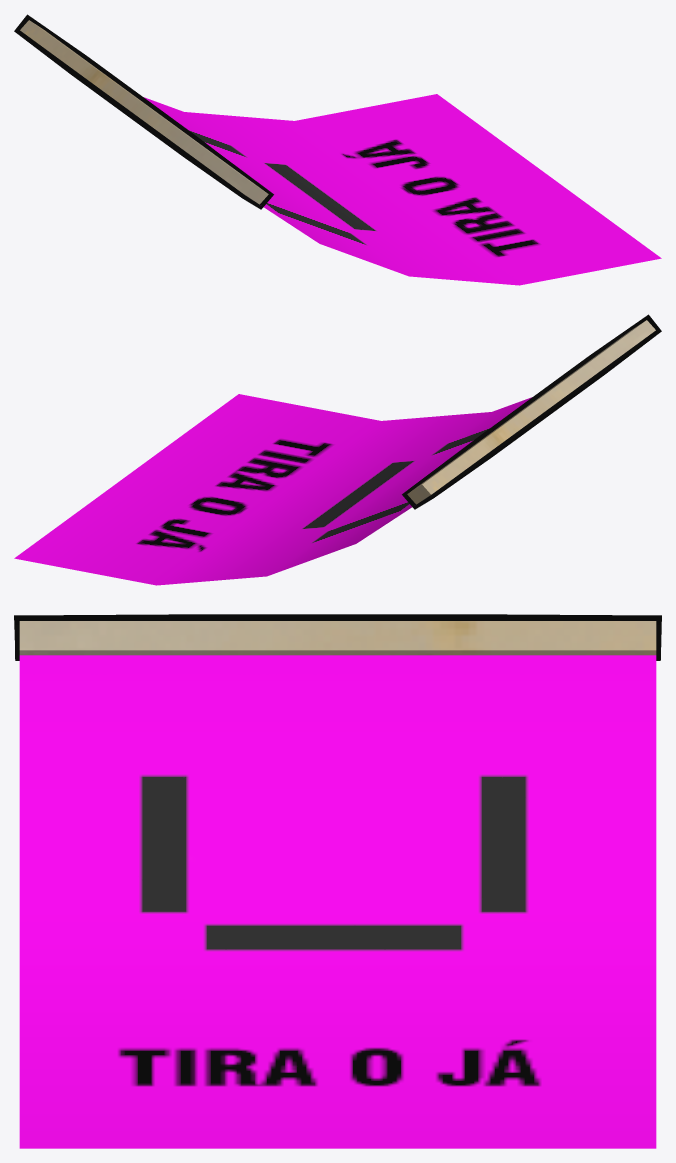
File: Post it.glb
The picture shows the model from 3 angles, top to bottom: view 1: azimuth 30°, elevation 25°; view 2: azimuth 150°, elevation 25°; view 3: azimuth 270°, elevation 25°; orthographic projection. The views are drawn at different scales.
Parts seen in each view (by area): view 1: Post it; view 2: Post it; view 3: Post it.
Part boxes in pixels (x1,y1,x2,y2): Post it: (14, 14, 661, 285); Post it: (14, 314, 661, 585); Post it: (14, 614, 661, 1148).
Size of the model in its own units: 0.8045 by 0.3256 by 0.7554.
2 materials, 1 textured.
